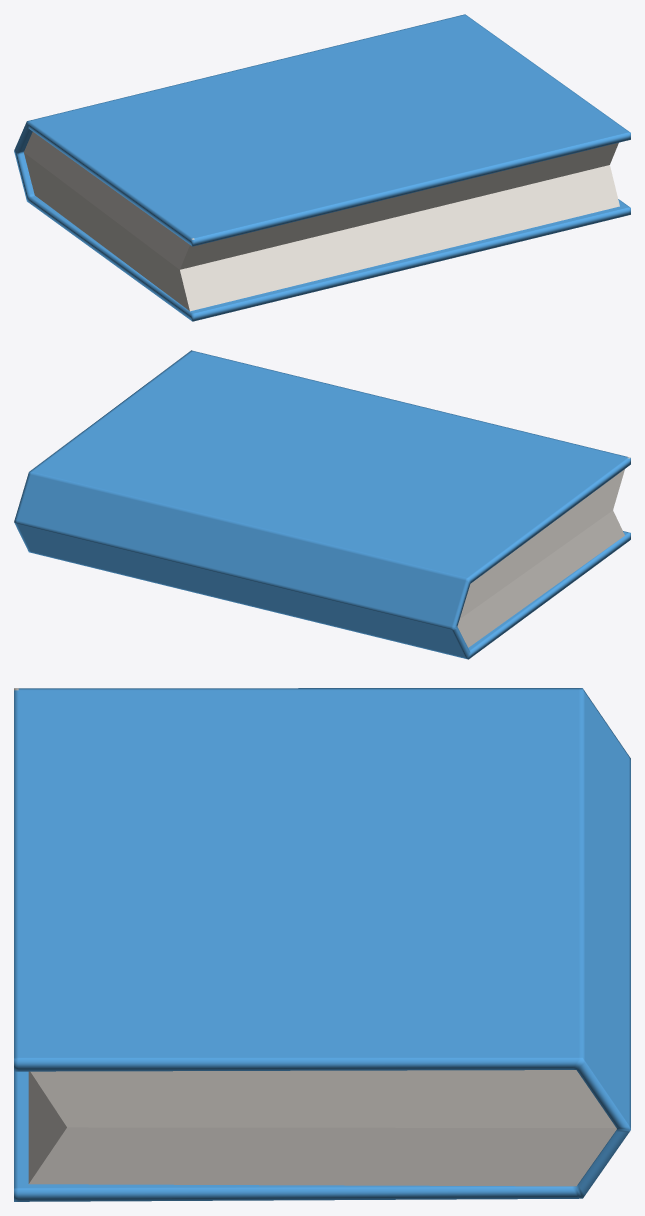
File: book.glb
The picture shows the model from 3 angles, top to bottom: view 1: azimuth 30°, elevation 25°; view 2: azimuth 150°, elevation 25°; view 3: azimuth 270°, elevation 25°; orthographic projection. The views are drawn at different scales.
Visible parts, largest first — view 1: Cube, Cube.001; view 2: Cube, Cube.001; view 3: Cube, Cube.001.
Boxes of the visible parts, x1=… form: Cube: x1=14, y1=14, x2=630, y2=321; Cube.001: x1=24, y1=132, x2=619, y2=311; Cube: x1=14, y1=350, x2=630, y2=659; Cube.001: x1=457, y1=469, x2=624, y2=647; Cube: x1=14, y1=688, x2=630, y2=1201; Cube.001: x1=28, y1=1070, x2=616, y2=1186.
Size of the model in its own units: 2.01 by 0.3572 by 1.4.
